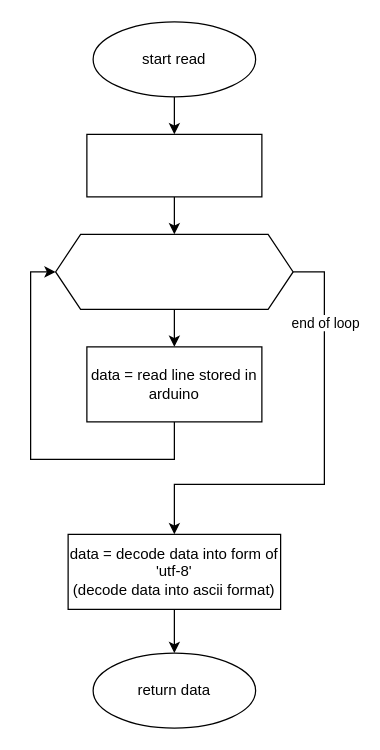
Image size: 380x750. Some labels were removed from this diagram. The centre of each missing label's shape, as x and y in pixels:
"data = empty string" goes at (174,165).
"loop while the length of data is less than 1 (while data is empty)" goes at (173,271).
